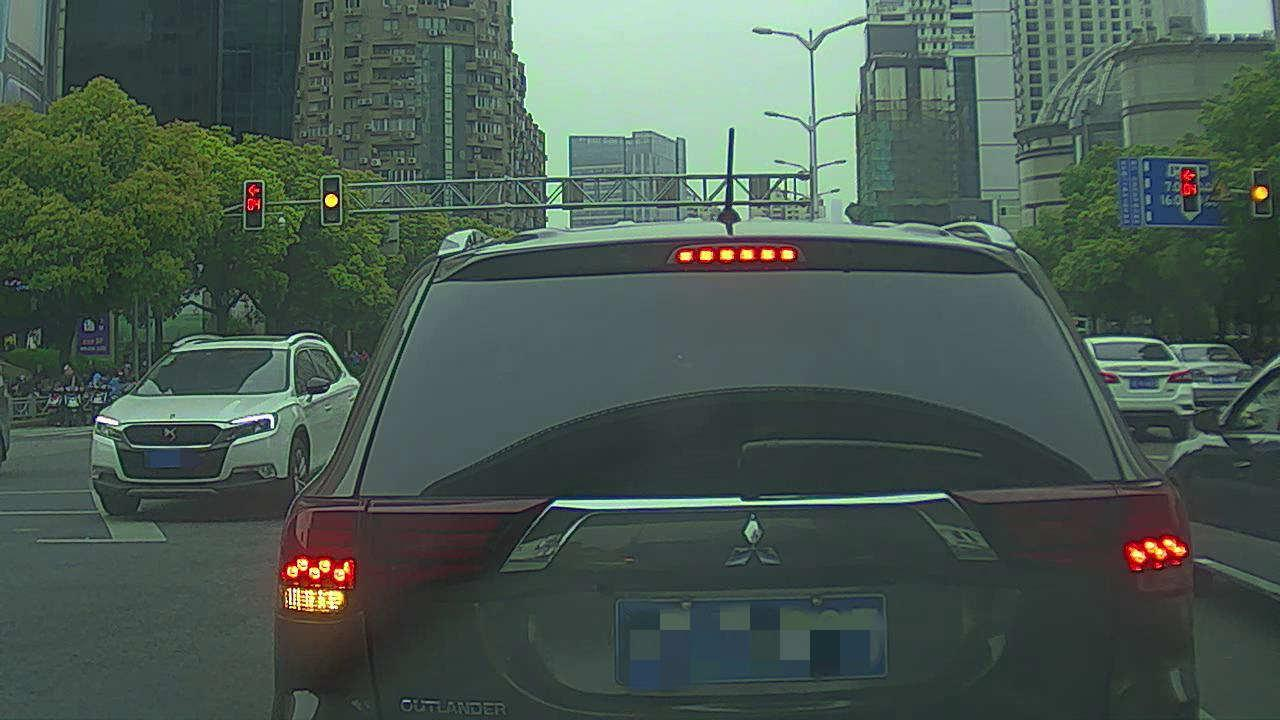traffic_light: (319, 171, 348, 228), (1178, 167, 1202, 218), (1251, 167, 1275, 217), (244, 181, 264, 229)
